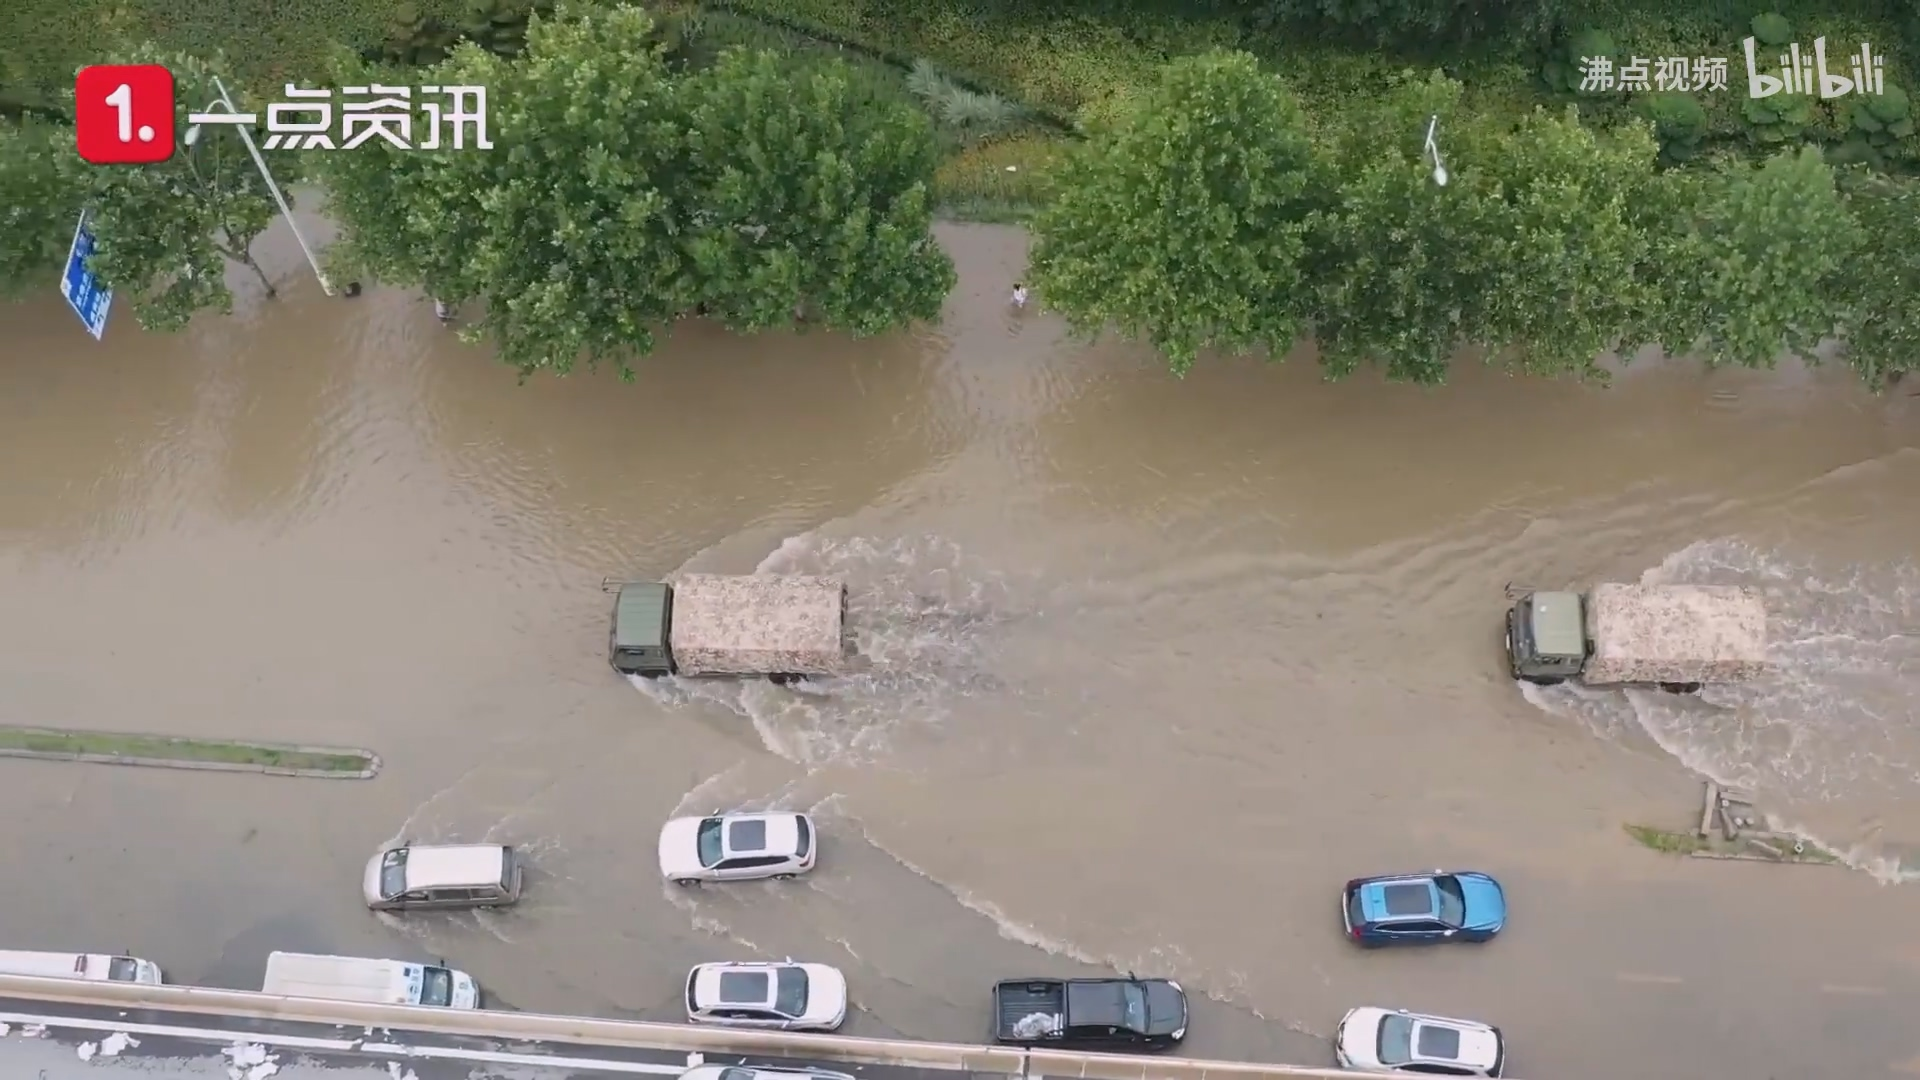puddle: (15, 286, 1912, 1080)
